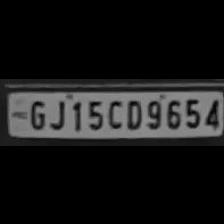1: (68, 97, 84, 129)
4: (200, 96, 222, 127)
5: (82, 97, 104, 129), (181, 94, 201, 126)
6: (162, 96, 182, 128)
9: (144, 96, 162, 128)
C: (105, 95, 123, 129)
D: (122, 95, 142, 129)
G: (26, 96, 46, 128)
J: (46, 95, 68, 129)
